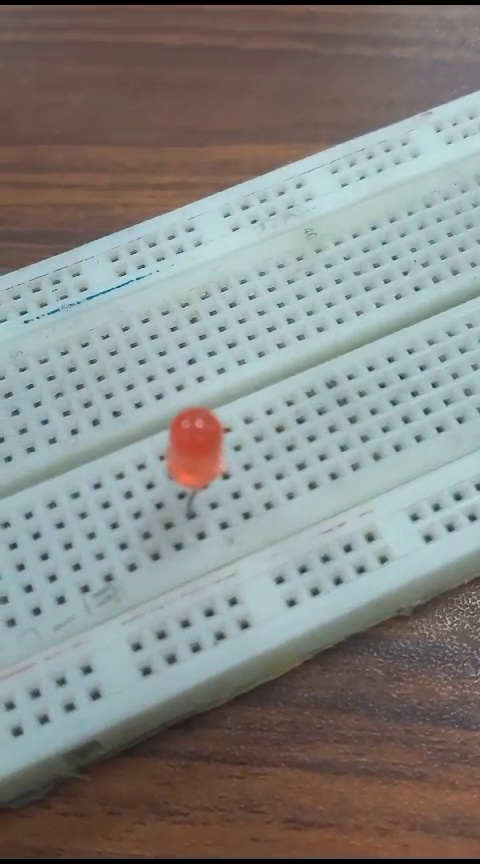LED: (166, 397, 228, 521)
